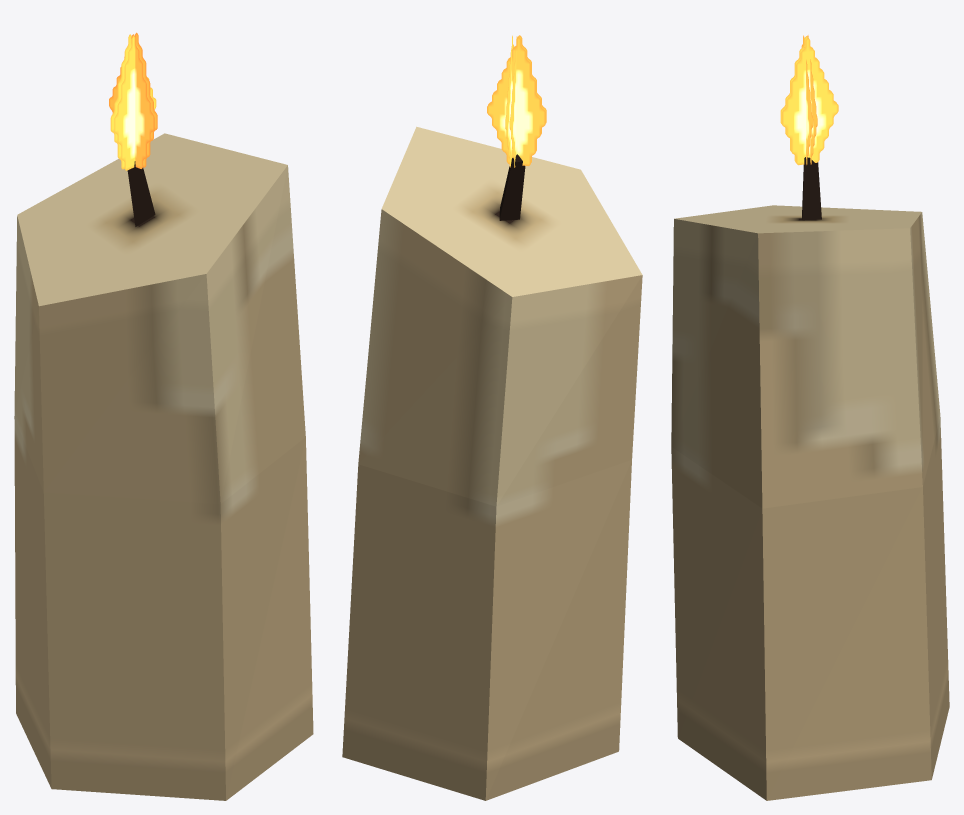
The model's file is SM_PR04_CandleThick.fbx.
3 views of the same model, side by side, from view 1: azimuth 30°, elevation 25°; view 2: azimuth 150°, elevation 25°; view 3: azimuth 270°, elevation 25° (orthographic). The views are drawn at different scales.
Parts seen in each view (by area): view 1: PR04_Candle, PR04_Flame; view 2: PR04_Candle, PR04_Flame; view 3: PR04_Candle, PR04_Flame.
Part boxes in pixels (<box>): PR04_Candle: <box>14,133,313,800</box>; PR04_Flame: <box>109,32,157,170</box>; PR04_Candle: <box>342,126,642,800</box>; PR04_Flame: <box>487,35,546,167</box>; PR04_Candle: <box>671,157,949,800</box>; PR04_Flame: <box>780,35,838,165</box>.
Bounding box in the file's own units: 0.0984 × 0.253 × 0.0916.
